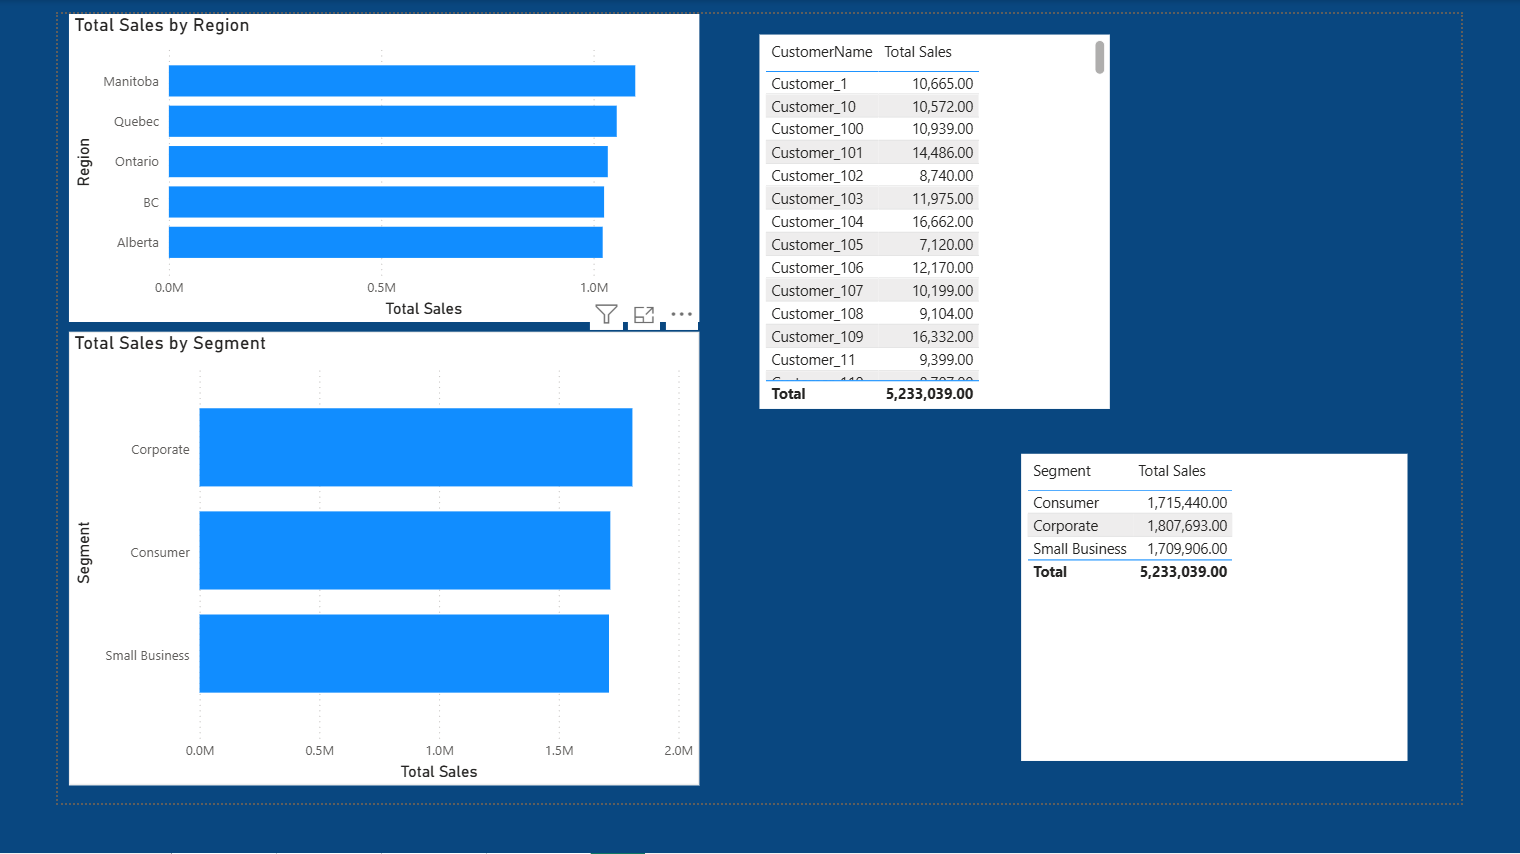

Layout of this report page (visuals, bound fields, positions):
{"tool":"powerbi","page":{"name":"Page 2","canvas":[1280,720],"ordinal":1},"visuals":[{"type":"barChart","fields":{"Category":["sales.Region"],"Y":["customers.Total Sales"]},"box":[10,0,575,281.2],"z":0},{"type":"barChart","fields":{"Y":["customers.Total Sales"],"Category":["customers.Column3"]},"box":[10,290,575,413.8],"z":1},{"type":"tableEx","fields":{"Values":["customers.Segment","customers.Total Sales"]},"box":[878.8,401.2,352.5,280],"z":2},{"type":"tableEx","fields":{"Values":["customers.CustomerName","customers.Total Sales"]},"box":[640,18.8,320,341.2],"z":3}]}

Visuals, with their boxes in screenshot pixels (x1, y1, x2, y2), scaled from the page's 1280x720 canvas onto the 1520x854 screenshot:
barChart - sales.Region x customers.Total Sales: x1=12, y1=0, x2=695, y2=334
barChart - customers.Total Sales x customers.Column3: x1=12, y1=344, x2=695, y2=835
tableEx - customers.Segment x customers.Total Sales: x1=1044, y1=476, x2=1462, y2=808
tableEx - customers.CustomerName x customers.Total Sales: x1=760, y1=22, x2=1140, y2=427
